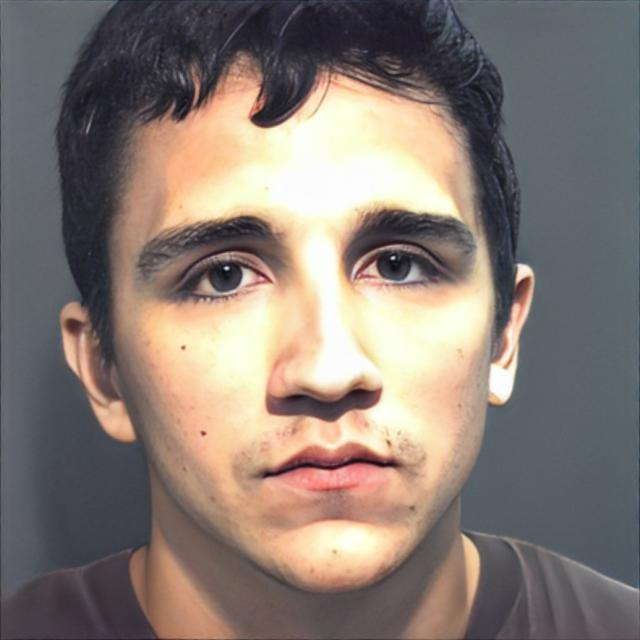sad: (114, 51, 496, 596)
